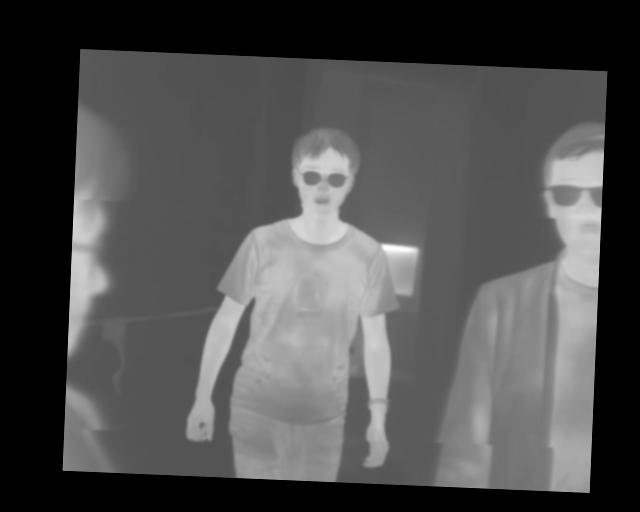face: (537, 116, 605, 259), (287, 123, 362, 220)
